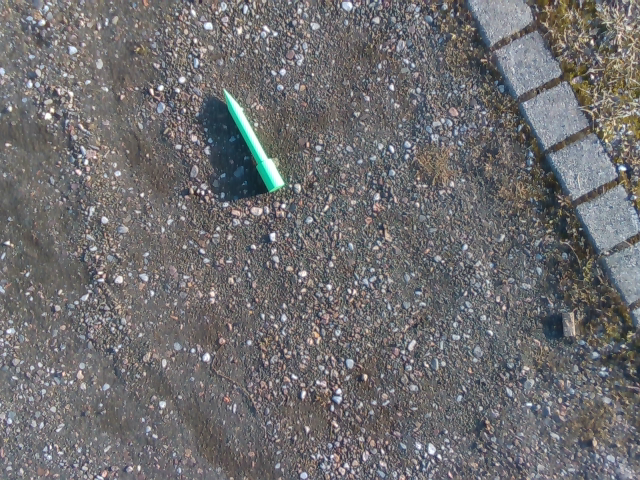Probe: (219, 82, 288, 196)
